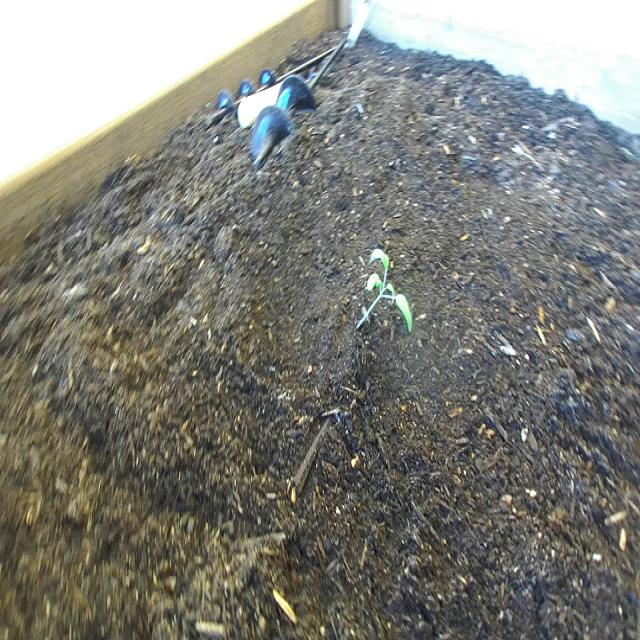Healthy: (352, 237, 420, 358)
